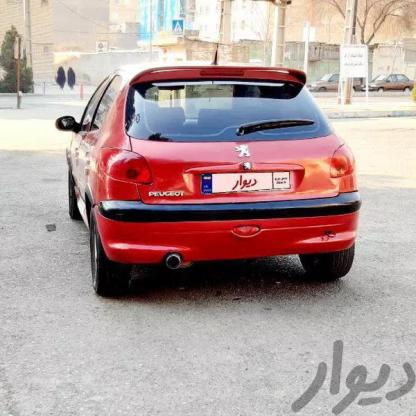Car: (52, 62, 362, 294), (298, 66, 353, 102), (361, 65, 412, 99)
